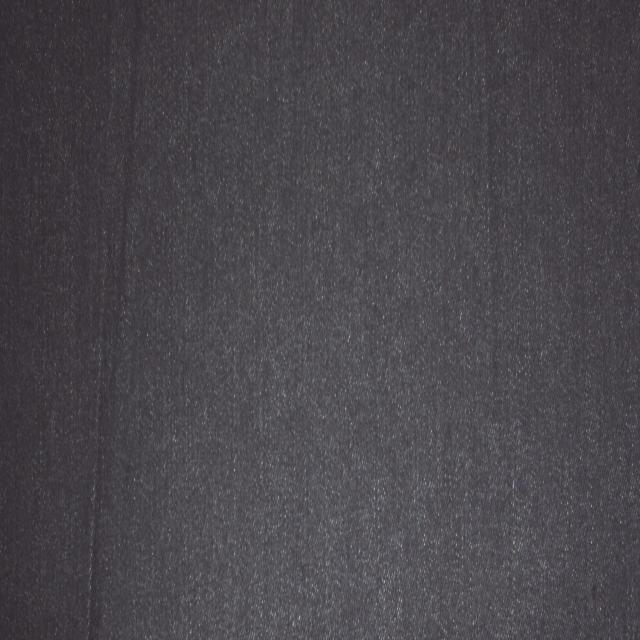broken_yarn: (110, 0, 155, 500), (82, 232, 114, 640), (467, 0, 497, 357)
